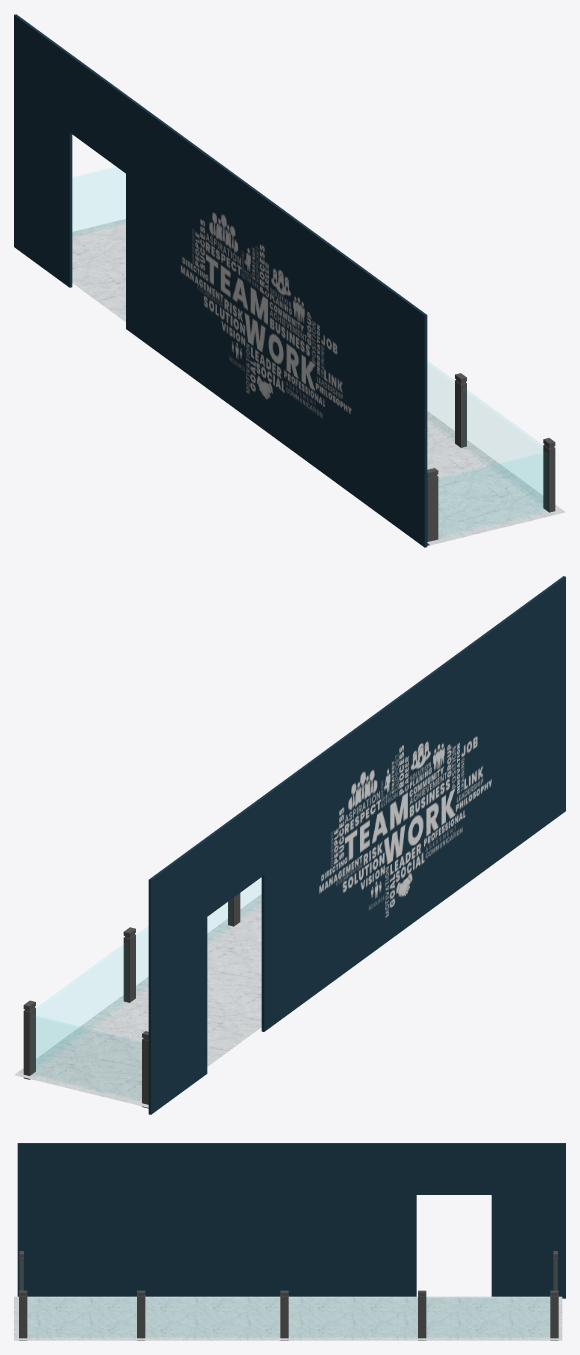
3 views of the same model, one above another, from view 1: azimuth 30°, elevation 25°; view 2: azimuth 150°, elevation 25°; view 3: azimuth 270°, elevation 25° (orthographic). The views are drawn at different scales.
Parts seen in each view (by area): view 1: Left_Wall, Floor2, pCube1, pCube6, pCube5, pCube8; view 2: Left_Wall, Floor2, pCube1, pCube2, pCube4; view 3: Left_Wall, Floor2, pCube2, pCube7, pCube4, pCube6, pCube8.
Part boxes in pixels (x1,y1,x2,y2): Left_Wall: (14, 14, 427, 547); Floor2: (72, 219, 565, 545); pCube1: (489, 453, 542, 505); pCube6: (543, 438, 555, 512); pCube5: (427, 468, 438, 545); pCube8: (455, 373, 466, 447); Left_Wall: (148, 576, 565, 1114); Floor2: (14, 894, 261, 1107); pCube1: (36, 1016, 90, 1069); pCube2: (23, 1000, 35, 1079); pCube4: (123, 927, 135, 1002); Left_Wall: (17, 1143, 565, 1298); Floor2: (14, 1296, 562, 1340); pCube2: (550, 1290, 558, 1340); pCube7: (280, 1290, 288, 1340); pCube4: (418, 1290, 426, 1340); pCube6: (19, 1290, 27, 1340); pCube8: (137, 1290, 145, 1340).
Bounding box in the file's own units: 2.17 × 3.48 × 11.23.
Materials: 5 (3 with a texture image).
